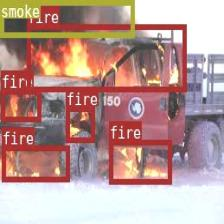fire: (26, 23, 186, 90), (108, 140, 171, 182), (2, 145, 68, 181), (0, 88, 41, 121), (65, 105, 94, 142)
smoke: (0, 0, 133, 37)
